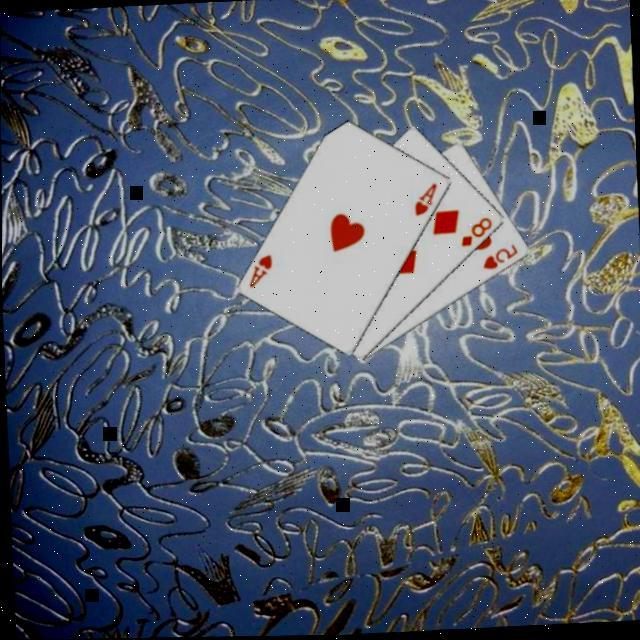5H: (480, 242, 522, 274)
8D: (458, 216, 498, 251)
AH: (246, 252, 277, 292), (412, 181, 442, 220)
